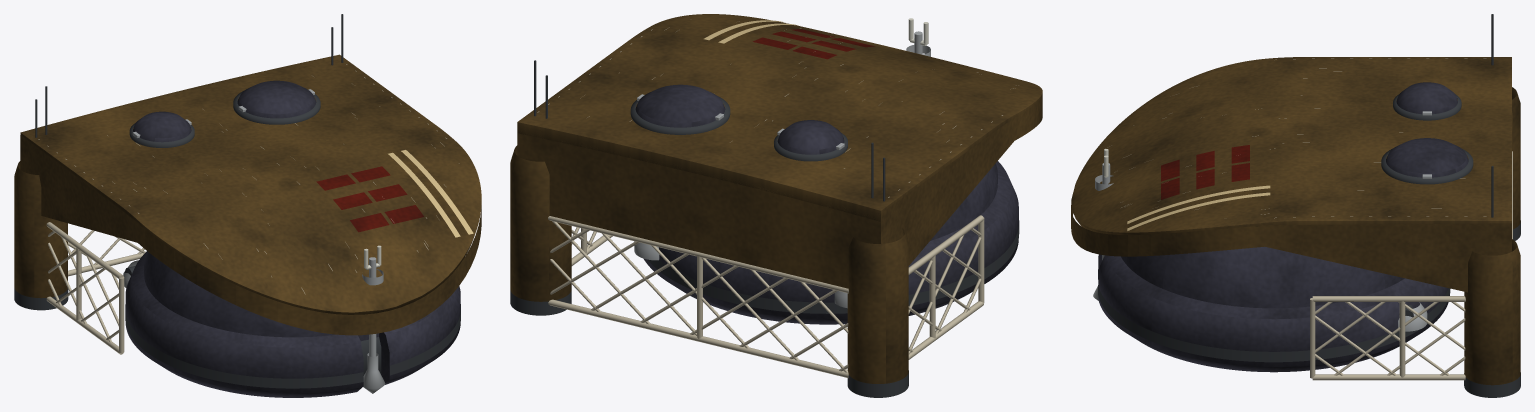
The picture shows the model from 3 angles, left to right: view 1: azimuth 30°, elevation 25°; view 2: azimuth 150°, elevation 25°; view 3: azimuth 270°, elevation 25°; orthographic projection. The views are drawn at different scales.
Visible parts, largest first — view 1: Rounded compound roof and nose, Exposed grey violet drilling drum, Rear cylindrical foundation pier, Upper shell edge skirt 42, Rounded internal survey machine bell, Lower drum dark belt, Hatch 1 shallow domed lid, Hatch 0 shallow domed lid, Hatch 1 recessed flange, Pier foot wear band, Pale nose roof stripe, Internal precision drill head (+9 smaller); view 2: Rounded compound roof and nose, Upper shell edge skirt 0, Exposed grey violet drilling drum, Rear cylindrical foundation pier, Rear cylindrical foundation pier.001, Upper shell edge skirt 42, Hatch 1 shallow domed lid, Lower drum dark belt, Rear open bracing frame, Hatch 0 shallow domed lid, Rear open bracing frame.001, Rounded internal survey machine bell (+12 smaller); view 3: Rounded compound roof and nose, Exposed grey violet drilling drum, Rounded internal survey machine bell, Upper shell edge skirt 1, Rear cylindrical foundation pier.001, Lower drum dark belt, Hatch 1 shallow domed lid, Hatch 0 shallow domed lid, Rear cylindrical foundation pier, Side open bracing 1 frame, Side open bracing 1 frame.001, Hatch 1 recessed flange (+6 smaller).
Boxes of the visible parts, x1,y1,x2,y2 form: Rounded compound roof and nose: [20, 54, 481, 314]; Exposed grey violet drilling drum: [125, 251, 460, 397]; Rear cylindrical foundation pier: [14, 161, 67, 298]; Upper shell edge skirt 42: [20, 135, 137, 242]; Rounded internal survey machine bell: [144, 252, 378, 341]; Lower drum dark belt: [125, 304, 460, 388]; Hatch 1 shallow domed lid: [237, 80, 316, 118]; Hatch 0 shallow domed lid: [133, 111, 191, 142]; Hatch 1 recessed flange: [233, 90, 320, 124]; Pier foot wear band: [14, 288, 68, 310]; Pale nose roof stripe: [388, 152, 460, 237]; Internal precision drill head: [363, 353, 385, 393]; Rounded compound roof and nose: [517, 14, 1042, 221]; Upper shell edge skirt 0: [517, 125, 880, 288]; Exposed grey violet drilling drum: [643, 161, 1018, 324]; Rear cylindrical foundation pier: [847, 228, 908, 383]; Rear cylindrical foundation pier.001: [510, 145, 571, 301]; Upper shell edge skirt 42: [881, 118, 1014, 265]; Hatch 1 shallow domed lid: [635, 84, 725, 127]; Lower drum dark belt: [648, 220, 1019, 313]; Rear open bracing frame: [548, 299, 848, 377]; Hatch 0 shallow domed lid: [777, 120, 844, 154]; Rear open bracing frame.001: [548, 216, 848, 293]; Rounded internal survey machine bell: [930, 163, 997, 240]; Rounded compound roof and nose: [1071, 57, 1511, 234]; Exposed grey violet drilling drum: [1098, 254, 1450, 372]; Rounded internal survey machine bell: [1121, 246, 1404, 308]; Upper shell edge skirt 1: [1265, 223, 1511, 292]; Rear cylindrical foundation pier.001: [1464, 239, 1520, 385]; Lower drum dark belt: [1098, 269, 1450, 362]; Hatch 1 shallow domed lid: [1386, 138, 1468, 177]; Hatch 0 shallow domed lid: [1396, 82, 1457, 114]; Rear cylindrical foundation pier: [1512, 87, 1520, 229]; Side open bracing 1 frame: [1312, 374, 1465, 380]; Side open bracing 1 frame.001: [1312, 296, 1465, 301]; Hatch 1 recessed flange: [1381, 148, 1473, 184].
Size of the model in its own units: 2.36 by 1.39 by 2.55.
Materials: 9 (3 with a texture image).
